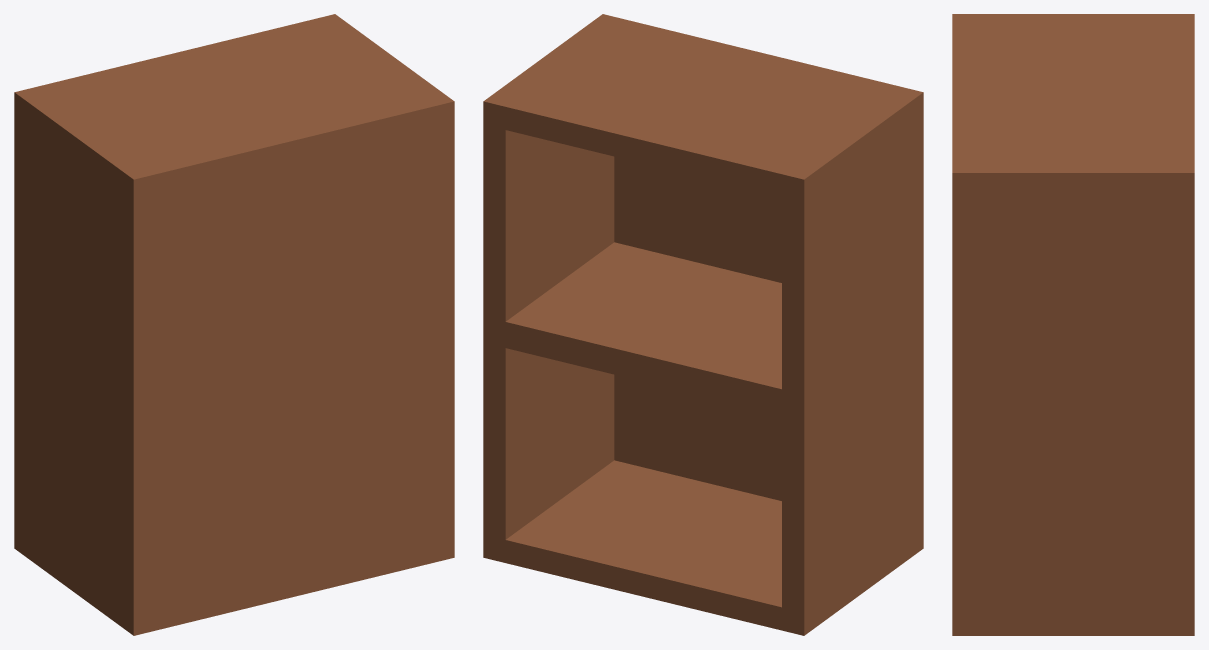
Rendered from Rak Buku.fbx.
3 renders of one model, left to right at view 1: azimuth 30°, elevation 25°; view 2: azimuth 150°, elevation 25°; view 3: azimuth 270°, elevation 25°, orthographic.
Visible parts, largest first — view 1: Cube.043; view 2: Cube.043; view 3: Cube.043.
Part boxes in pixels (bbox=[...]): Cube.043: bbox=[14, 14, 454, 635]; Cube.043: bbox=[483, 14, 923, 635]; Cube.043: bbox=[952, 14, 1194, 635].
Size of the model in its own units: 145 by 197 by 93.31.
1 material, 1 textured.
